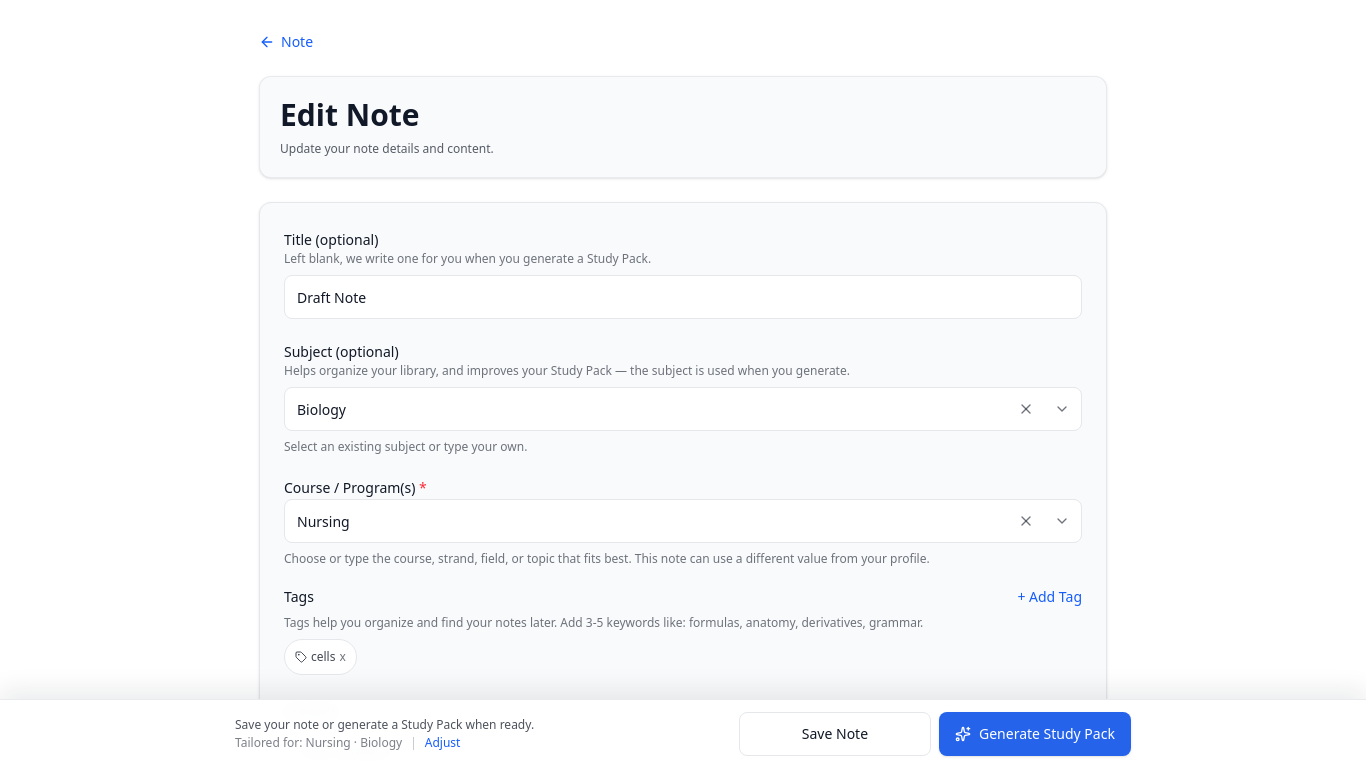
Test: NoteEditorPageClient › keeps draft note title/subject/tags/content editable
The image size is (1366, 768).
Expected: the field labelled "Title (optional)" holds "Draft Note", [284,275,1082,319]
Expected: the field labelled "Subject (optional)" holds "Biology", [284,387,1082,431]
Click the button named "Toggle subject suggestions". click: click(1062, 409)
box: [1042,401,1082,417]
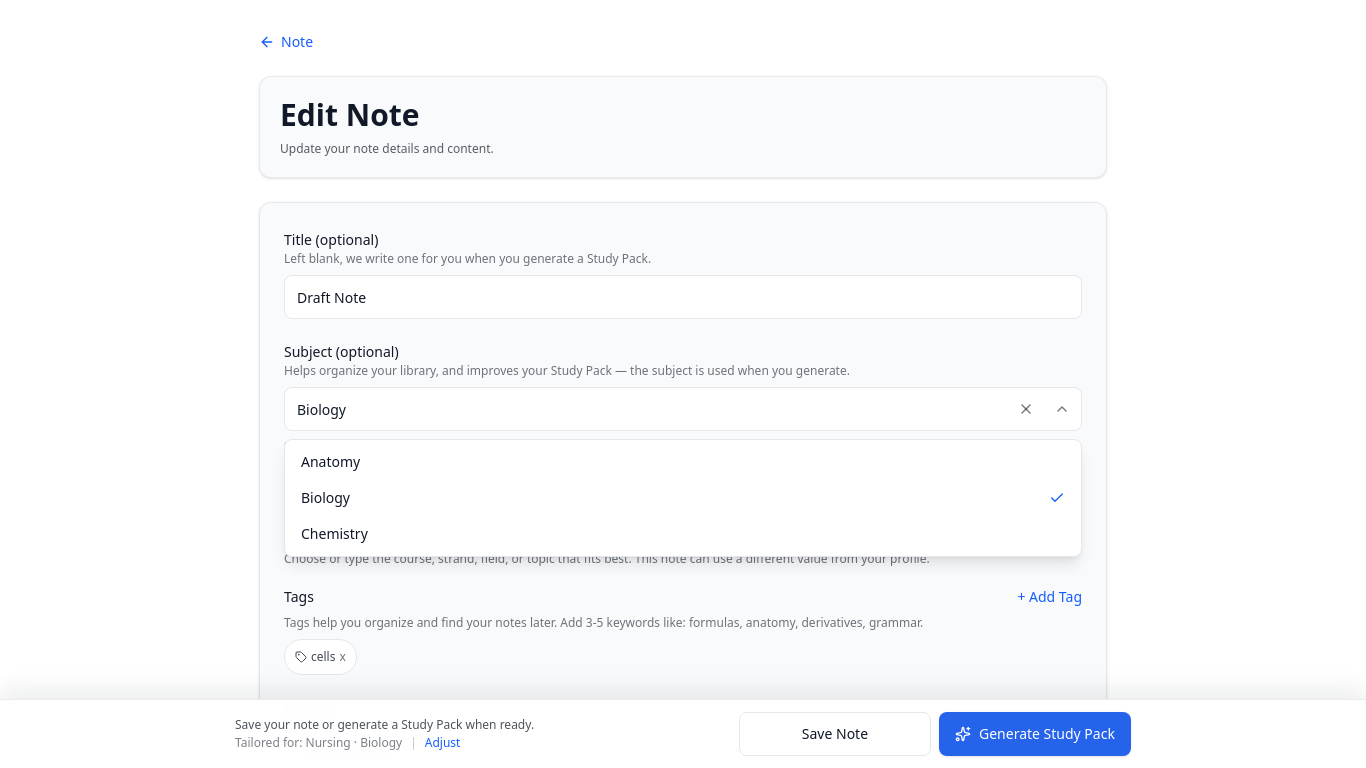
Expected: the option "Anatomy" is shown, [289,444,1077,480]
Expected: the option "Biology" is shown, [289,480,1077,516]
